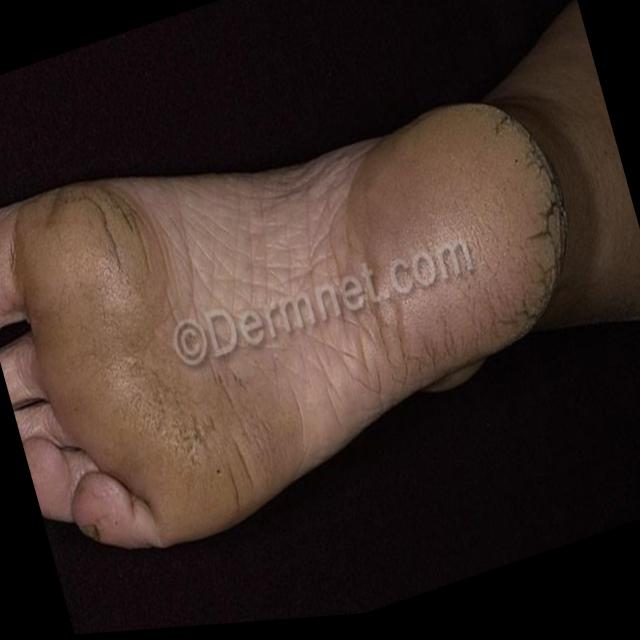liquenificacion 1: (142, 158, 374, 423)
liquenificacion 2: (142, 158, 374, 423)
